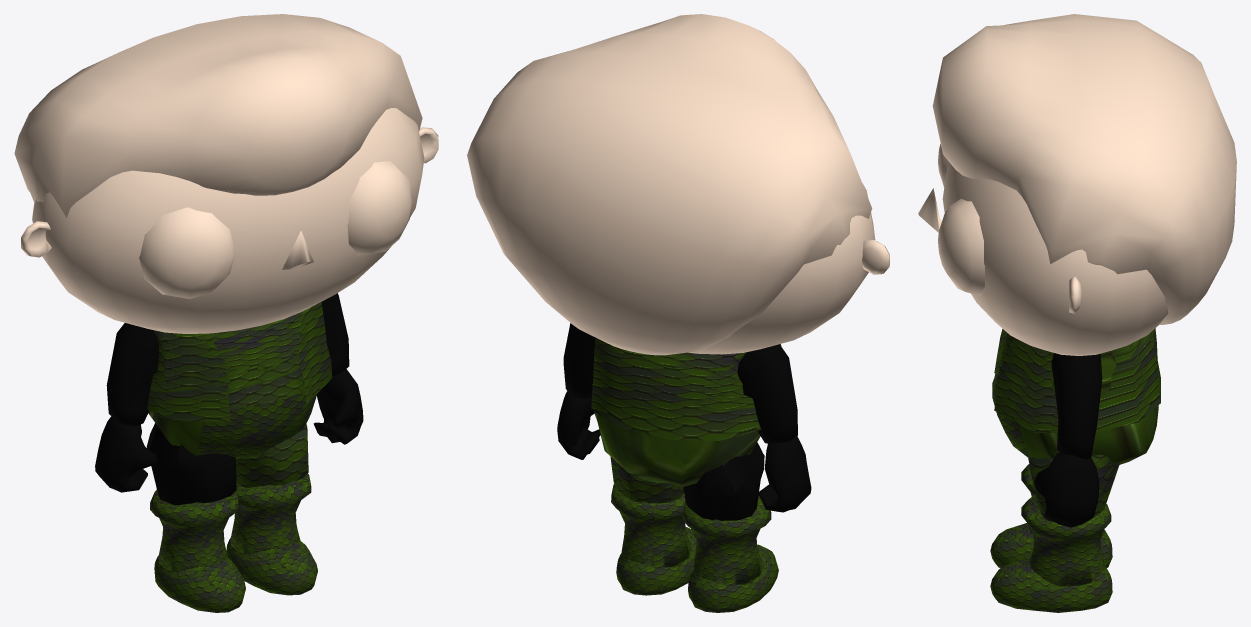
Rendered from aquaman.obj.
3 renders of one model, left to right at view 1: azimuth 30°, elevation 25°; view 2: azimuth 150°, elevation 25°; view 3: azimuth 270°, elevation 25°, orthographic.
Visible parts, largest first — view 1: cabeza, torso, bota, botaIzq, brazoder, piernader, brazoizq, piernaizq; view 2: cabeza, torso, bota, brazoder, botaIzq, piernader, brazoizq, piernaizq; view 3: cabeza, torso, botaIzq, brazoizq, bota, piernaizq.
Part boxes in pixels (left/top/right/bottom): cabeza: left=14, top=14, right=438, bottom=333; torso: left=147, top=302, right=332, bottom=459; bota: left=150, top=489, right=245, bottom=612; botaIzq: left=226, top=473, right=317, bottom=595; brazoder: left=95, top=323, right=158, bottom=492; piernader: left=146, top=423, right=236, bottom=505; brazoizq: left=313, top=293, right=363, bottom=444; piernaizq: left=235, top=424, right=308, bottom=487; cabeza: left=467, top=14, right=889, bottom=355; torso: left=591, top=338, right=781, bottom=486; bota: left=682, top=495, right=778, bottom=612; brazoder: left=737, top=344, right=811, bottom=512; botaIzq: left=611, top=484, right=696, bottom=595; piernader: left=683, top=442, right=764, bottom=520; brazoizq: left=557, top=323, right=600, bottom=459; piernaizq: left=610, top=456, right=684, bottom=503; cabeza: left=918, top=14, right=1236, bottom=355; torso: left=992, top=328, right=1160, bottom=464; botaIzq: left=990, top=495, right=1112, bottom=612; brazoizq: left=1034, top=353, right=1102, bottom=527; bota: left=990, top=464, right=1112, bottom=568; piernaizq: left=1028, top=454, right=1120, bottom=521.
Size of the model in its own units: 5.79 by 7.23 by 3.83.
